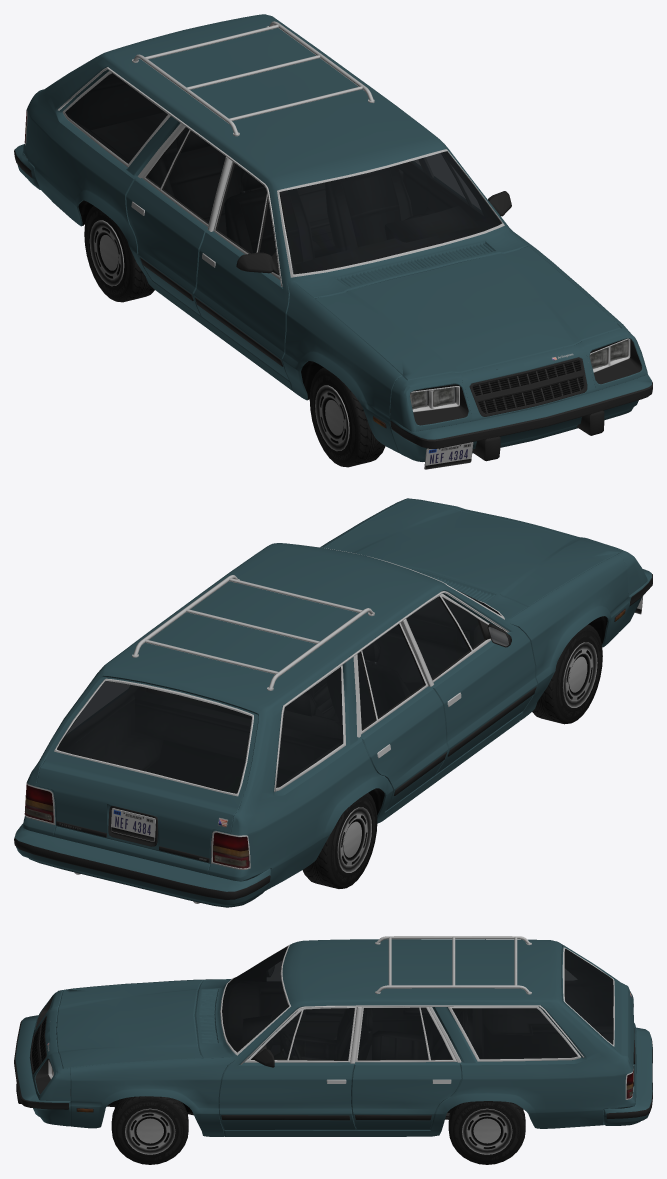
File: cv-wagon.glb
3 views of the same model, one above another, from view 1: azimuth 30°, elevation 25°; view 2: azimuth 150°, elevation 25°; view 3: azimuth 270°, elevation 25° (orthographic). The views are drawn at different scales.
Parts seen in each view (by area): view 1: Fairheaven_LT80_Bottom006_UCB_BOTTOM_GT_0, lamp_head_R, lamp_head_L; view 2: Fairheaven_LT80_Bottom006_UCB_BOTTOM_GT_0; view 3: Fairheaven_LT80_Bottom006_UCB_BOTTOM_GT_0.
Part boxes in pixels (left/top/right/bottom): Fairheaven_LT80_Bottom006_UCB_BOTTOM_GT_0: left=14, top=14, right=652, bottom=469; lamp_head_R: left=394, top=377, right=472, bottom=430; lamp_head_L: left=584, top=332, right=645, bottom=390; Fairheaven_LT80_Bottom006_UCB_BOTTOM_GT_0: left=14, top=498, right=652, bottom=907; Fairheaven_LT80_Bottom006_UCB_BOTTOM_GT_0: left=14, top=936, right=652, bottom=1164.
Bounding box in the file's own units: 1.85 × 1.39 × 5.
8 materials, 7 textured.
